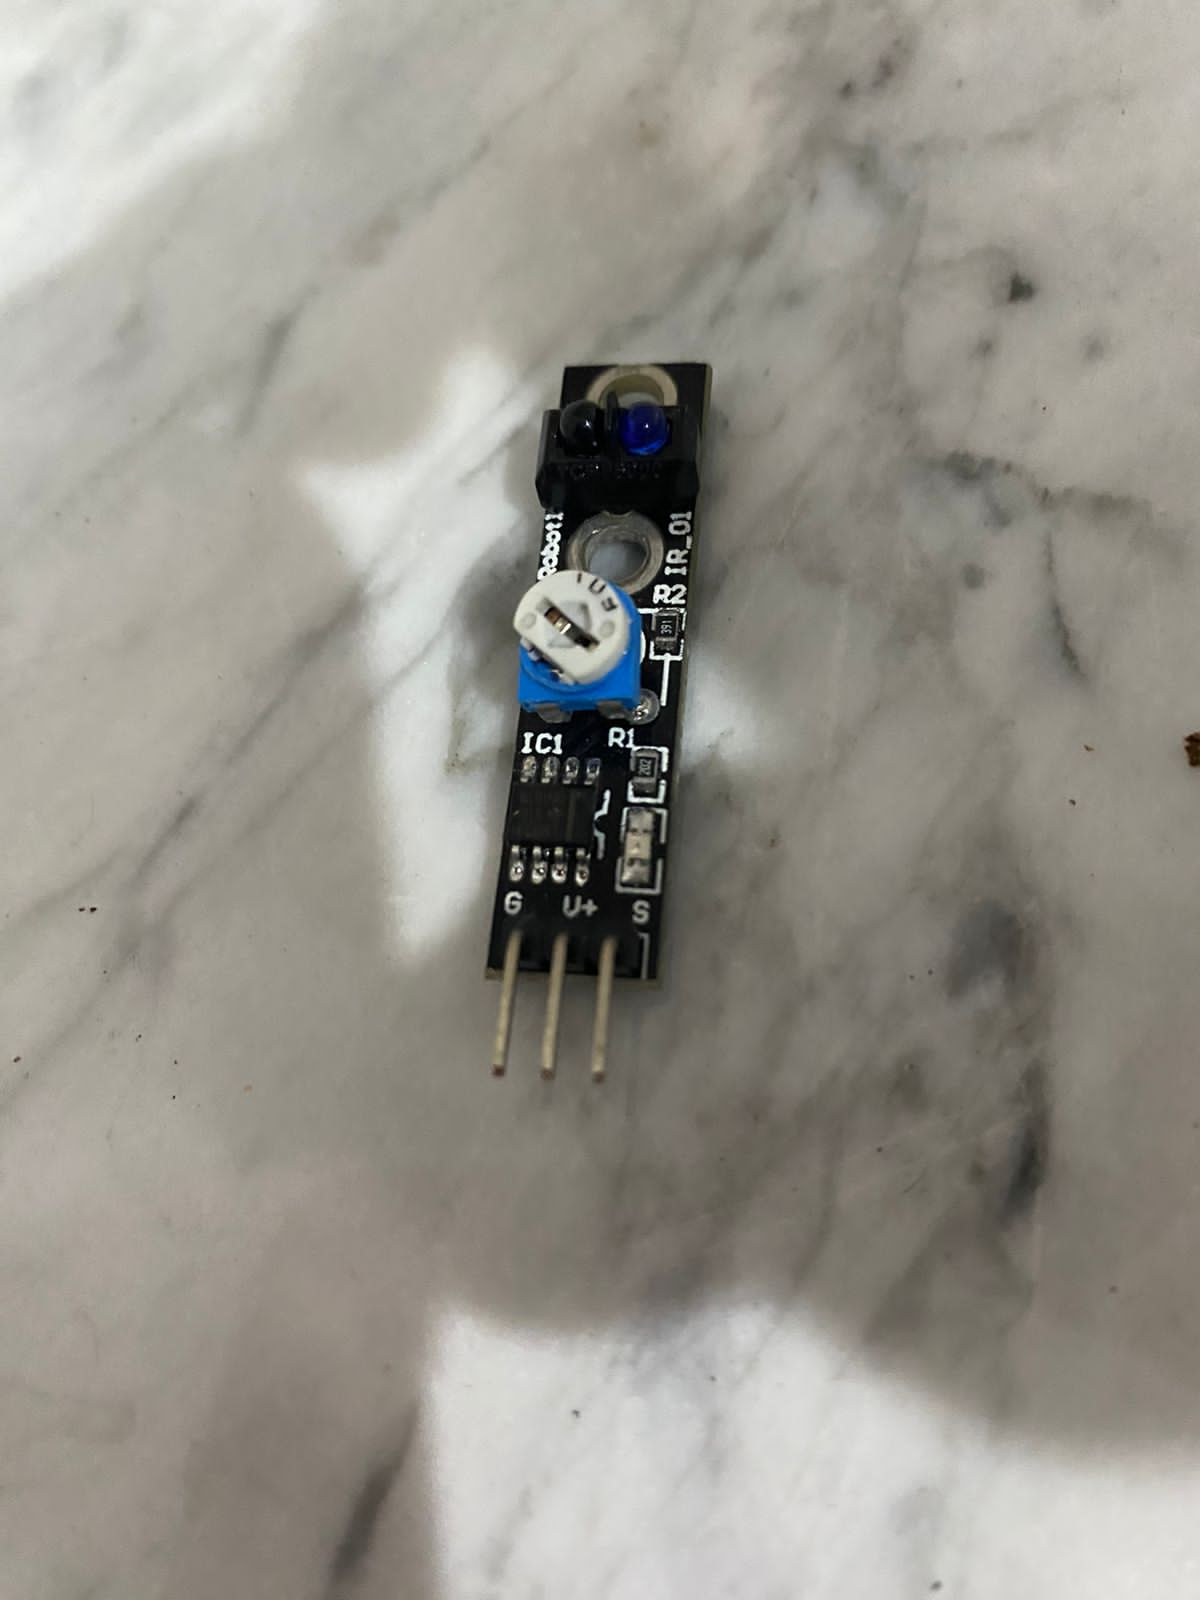ir-sensor: (476, 355, 758, 1099)
